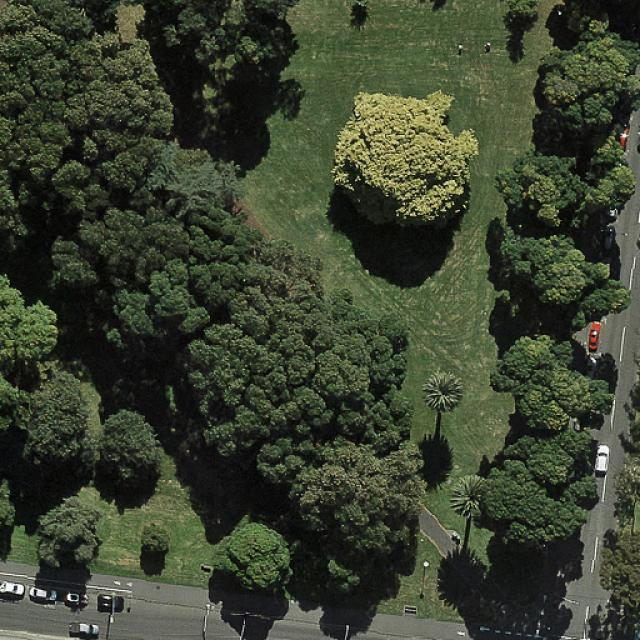Bike-Symbols: (125, 580, 135, 589)
